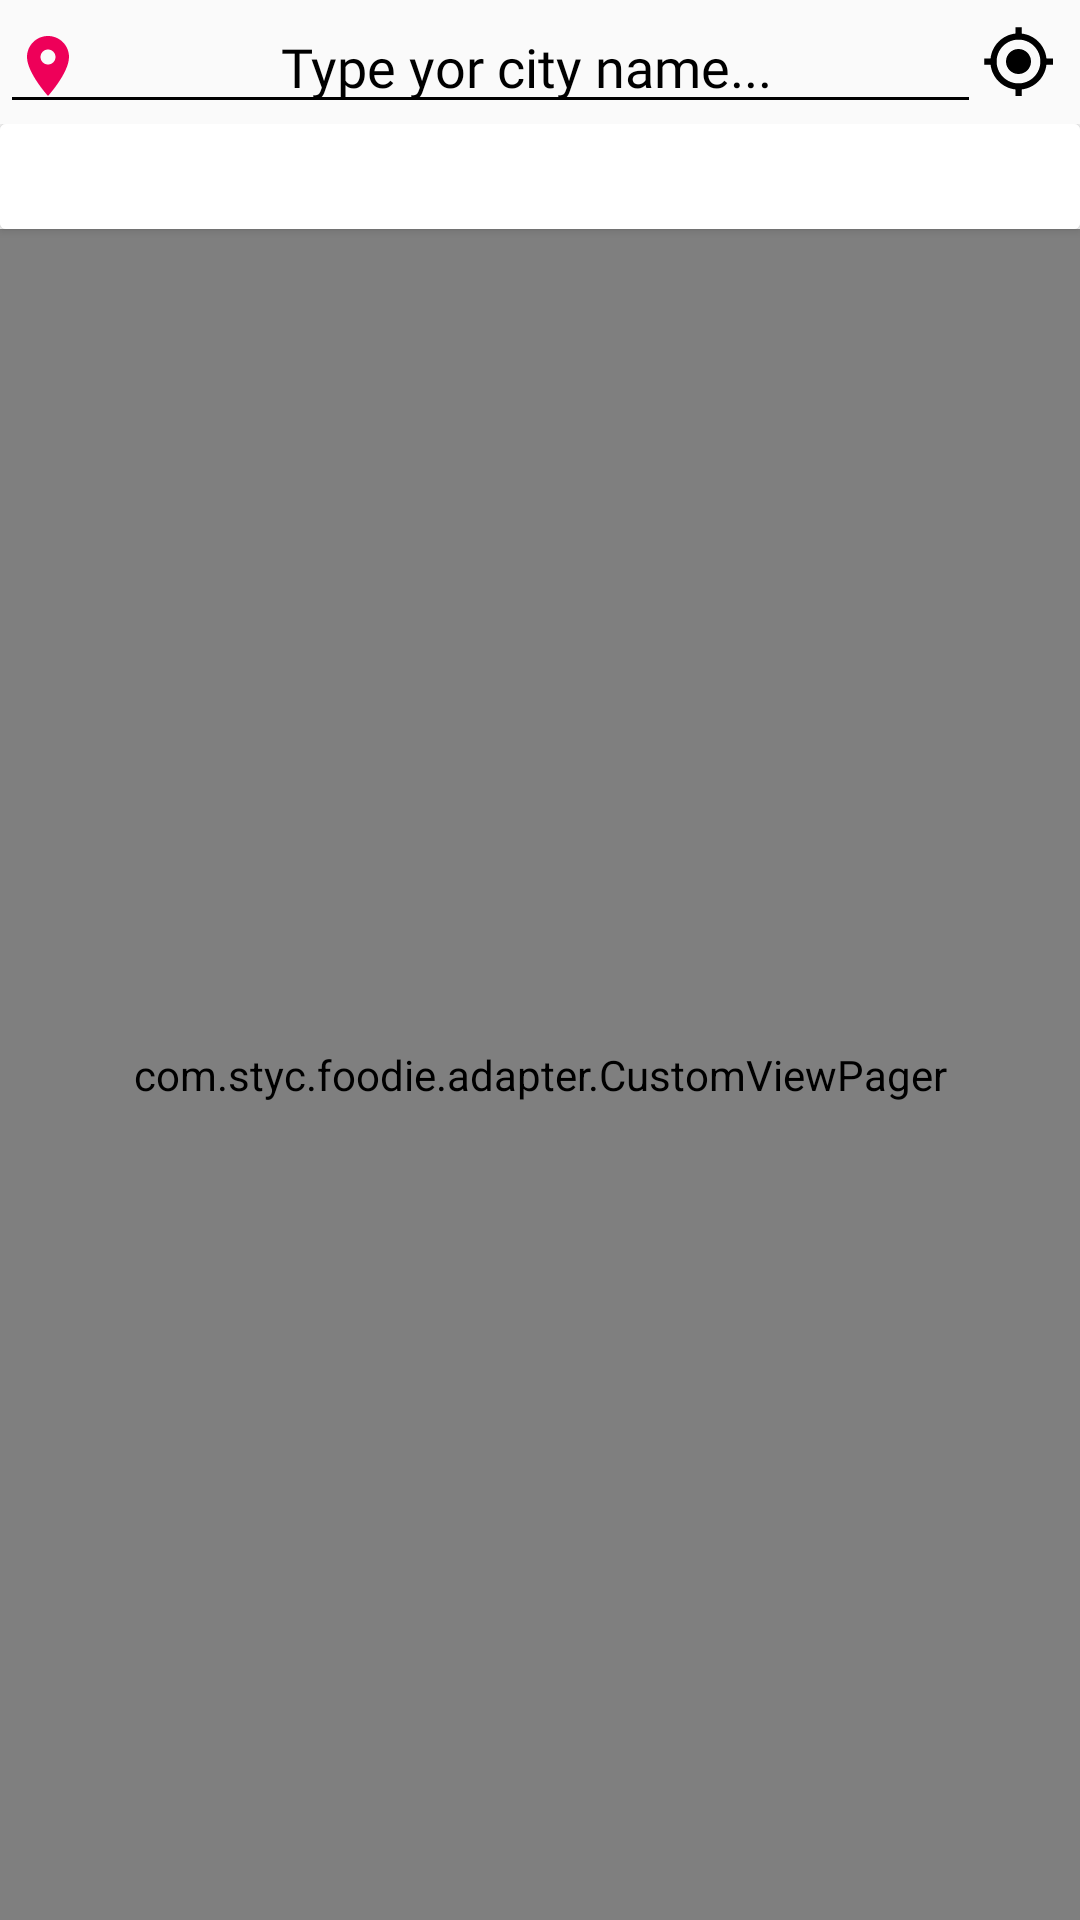

Screen size 1080×1920. Icon name, then its box in pixels as (x1, y1, x2, y2):
current location: (984, 27, 1053, 96)
